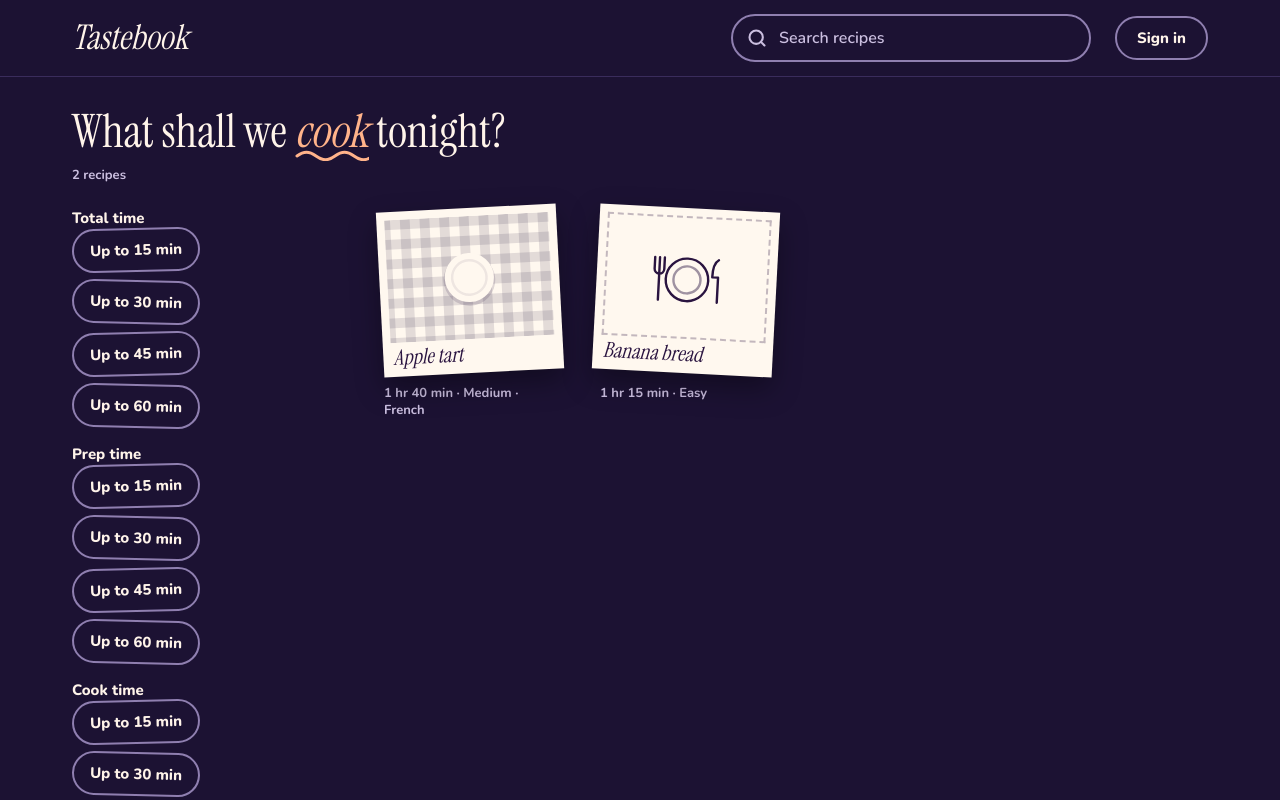
Test case: RecipesPage › opens a recipe from its title in the list
Click the link "Apple tart" at (470, 290), box [380,208,560,373]
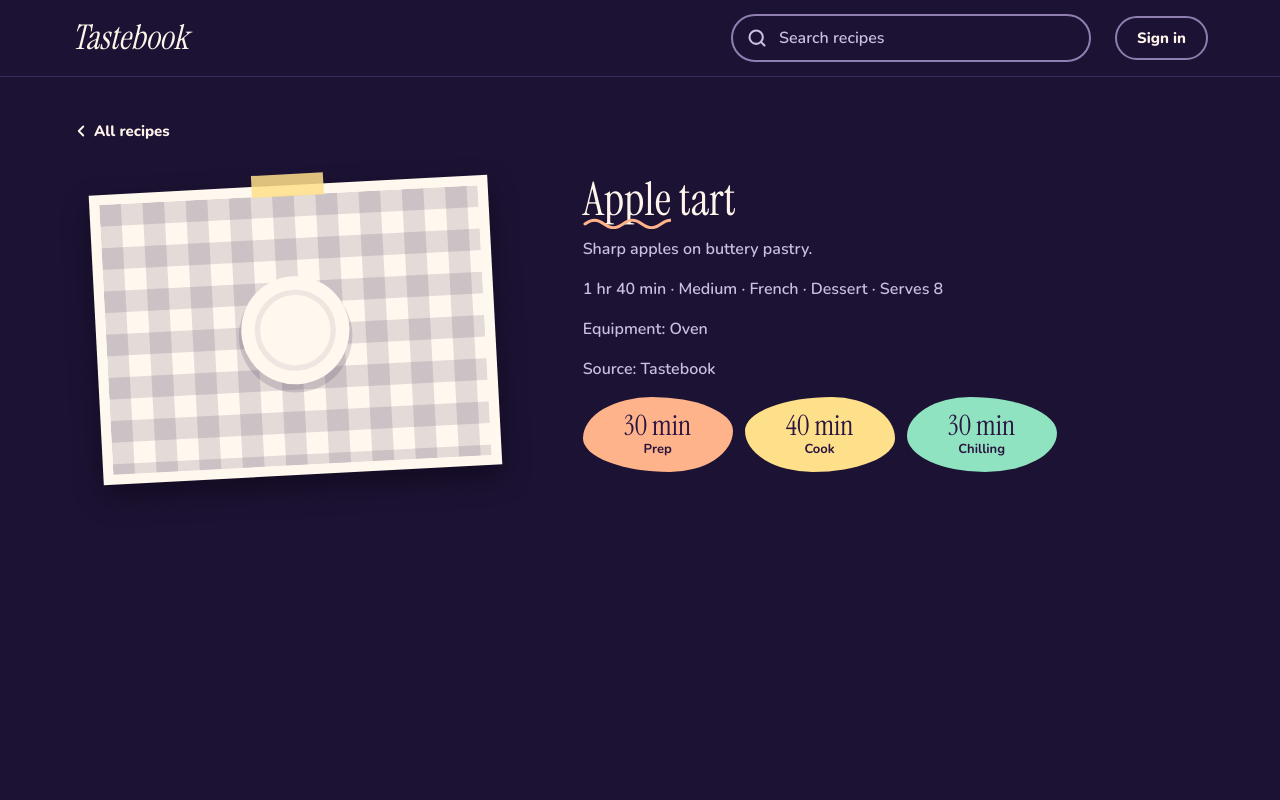
Expected: the heading "Apple tart" is shown, [583,169,736,229]
Expected: the text "Sharp apples on buttery pastry." is shown, [583,238,812,260]
Expected: the heading "What shall we cook tonight?" is gone
